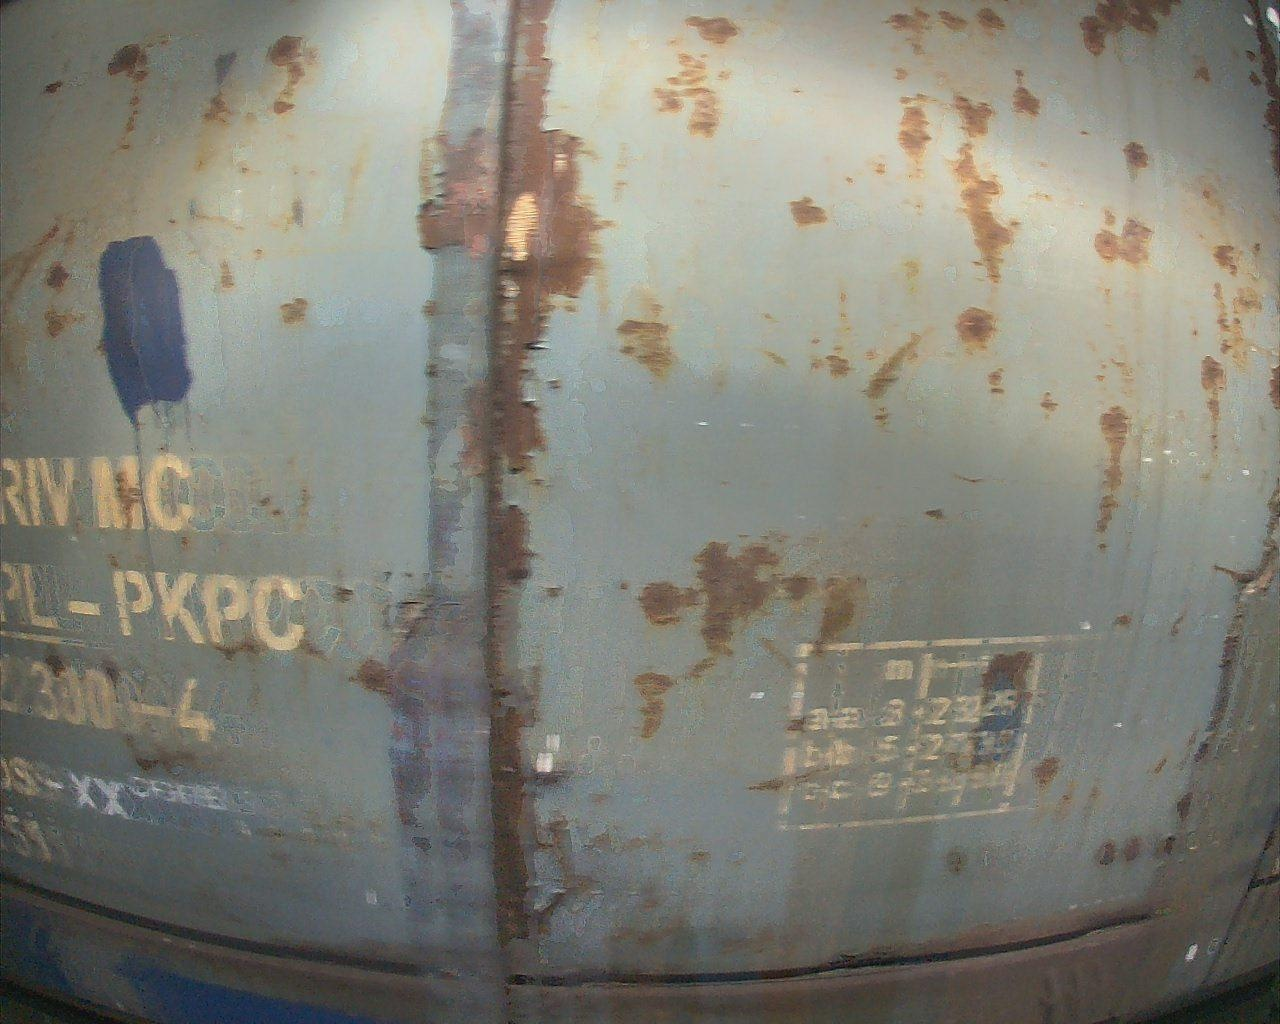UIC: (1, 442, 323, 878)
